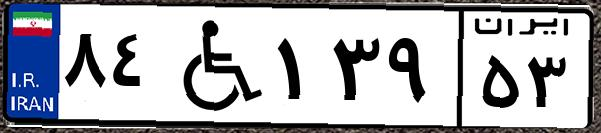1: (270, 28, 330, 110)
3: (330, 28, 385, 110), (525, 38, 570, 115)
4: (110, 28, 158, 98)
5: (475, 38, 525, 113)
8: (57, 26, 110, 100)
9: (385, 28, 445, 110)
ژ (معلولین و جانبازان): (158, 12, 270, 120)
